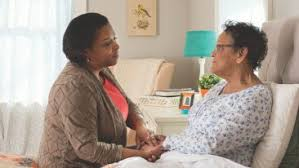Bad: (39, 12, 272, 158)
